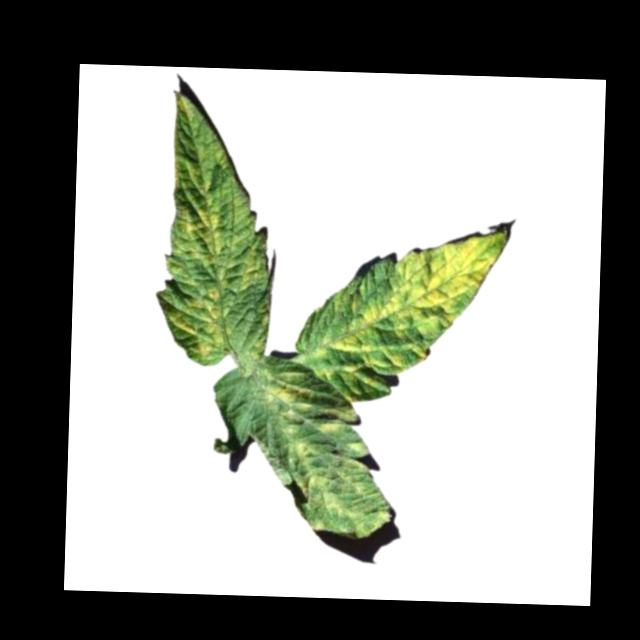Leaf_Mold: (302, 217, 512, 404), (157, 89, 281, 368), (256, 370, 393, 539)
